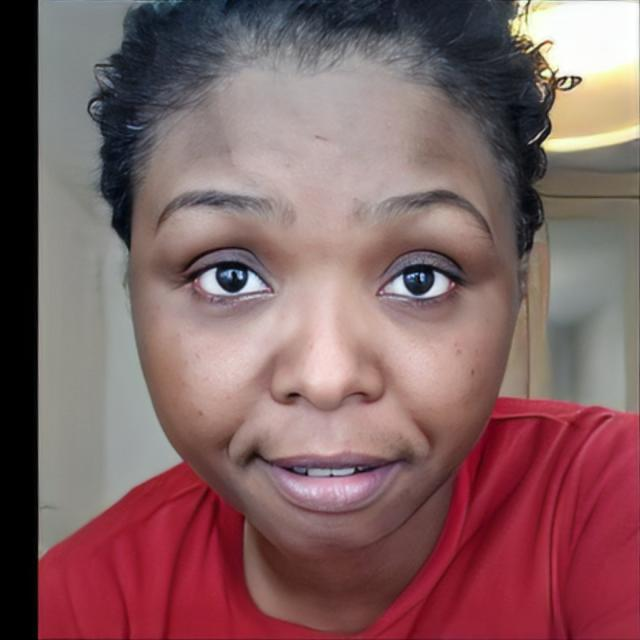surprise: (128, 62, 516, 562)
